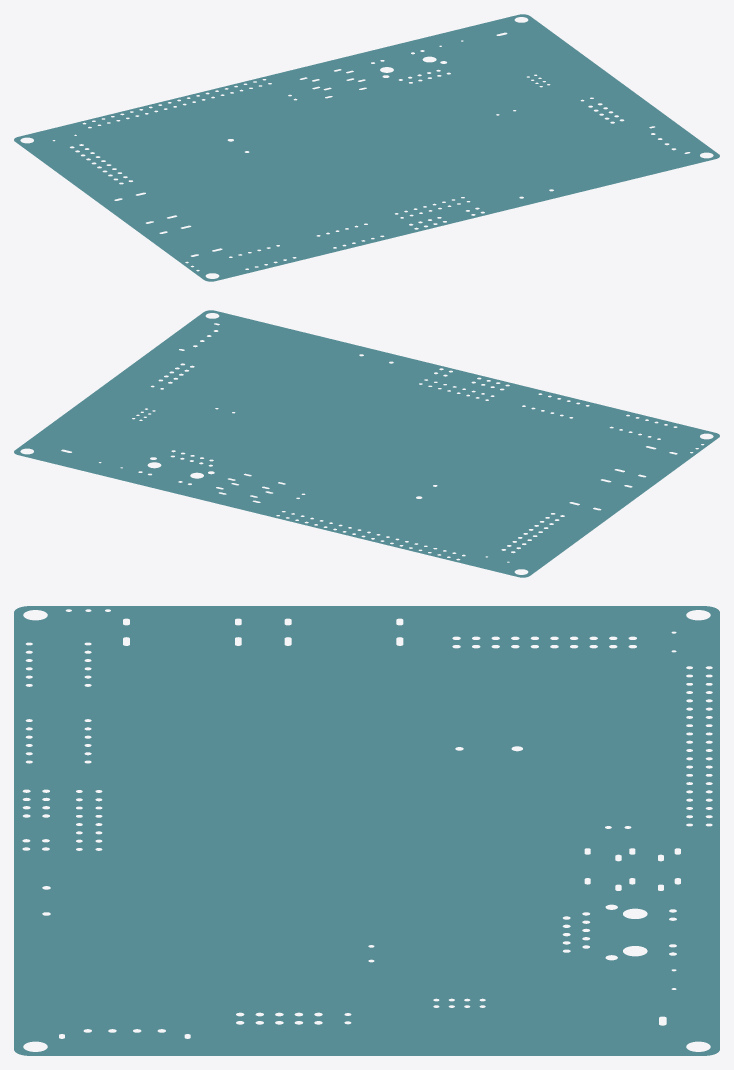
Rendered from acx720_v3_planar_reference.glb.
3 views of the same model, one above another, from view 1: azimuth 30°, elevation 25°; view 2: azimuth 150°, elevation 25°; view 3: azimuth 270°, elevation 25° (orthographic). The views are drawn at different scales.
Parts seen in each view (by area): view 1: V3_PLANAR_REFERENCE_NO_THICKNESS; view 2: V3_PLANAR_REFERENCE_NO_THICKNESS; view 3: V3_PLANAR_REFERENCE_NO_THICKNESS.
Part boxes in pixels (box(x1,y1,x2,y2)): V3_PLANAR_REFERENCE_NO_THICKNESS: box(14, 14, 719, 281); V3_PLANAR_REFERENCE_NO_THICKNESS: box(14, 310, 719, 577); V3_PLANAR_REFERENCE_NO_THICKNESS: box(14, 606, 719, 1055).
Size of the model in its own units: 0.138 by 0 by 0.0916.
